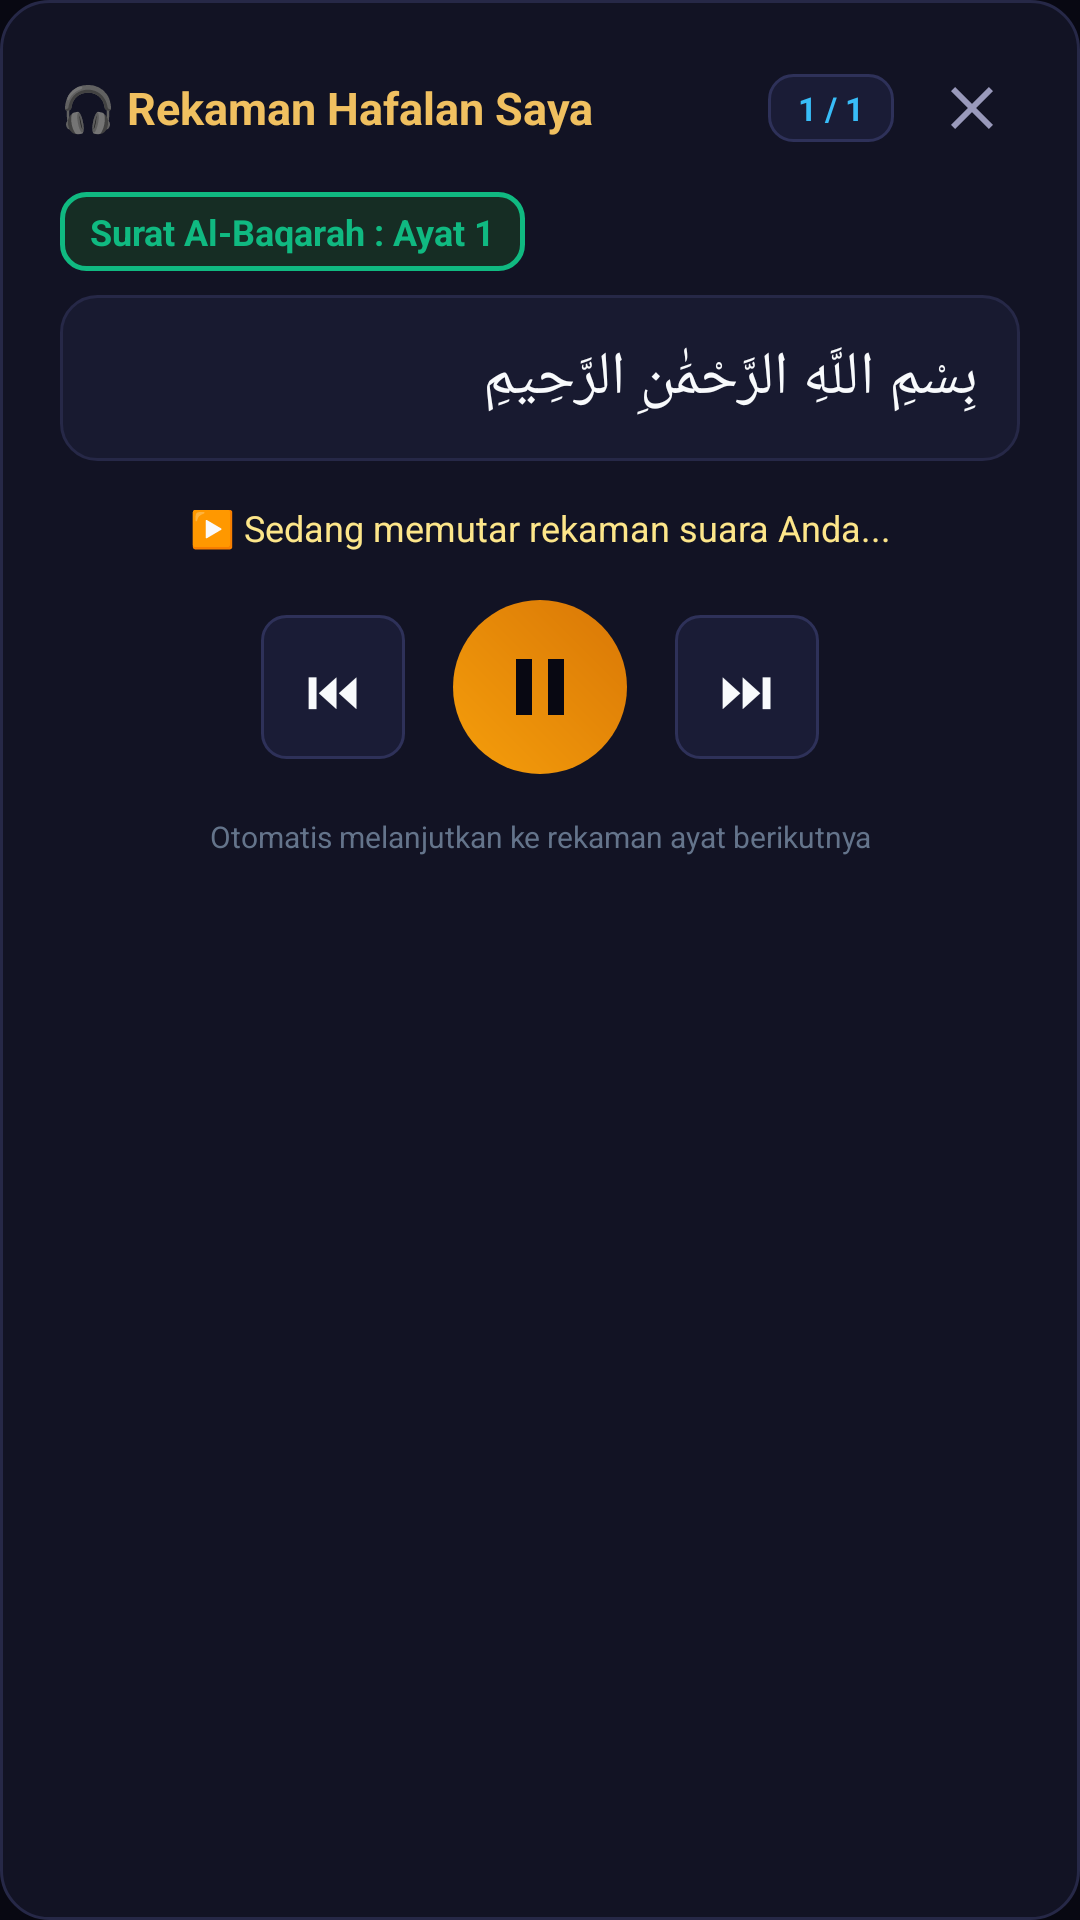

Named icons in this screenshot (1080*1920) and their bounding boxes, (x1, y1, x2, y2):
pause: (516, 659, 564, 715)
Tutup: (951, 87, 993, 129)
